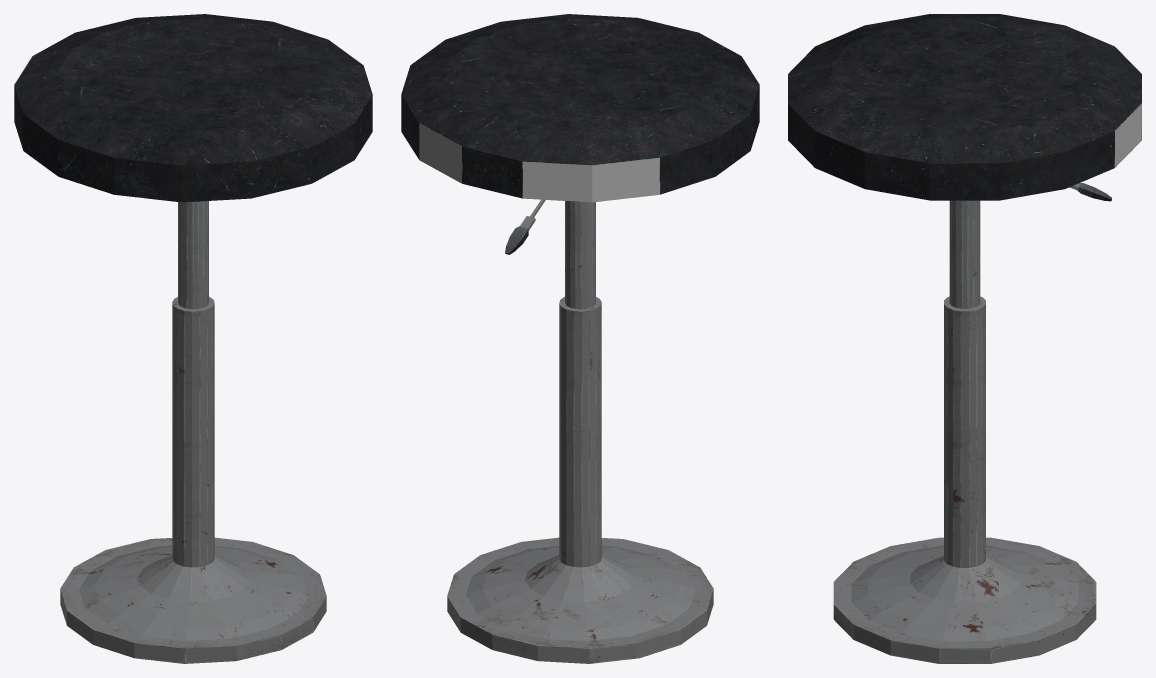
Rendered from Kursi Loket.fbx.
3 renders of one model, left to right at view 1: azimuth 30°, elevation 25°; view 2: azimuth 150°, elevation 25°; view 3: azimuth 270°, elevation 25°, orthographic.
Visible parts, largest first — view 1: Chair; view 2: Chair; view 3: Chair.
Part boxes in pixels (x1,y1,x2,y2): Chair: (14, 14, 372, 663); Chair: (401, 14, 759, 663); Chair: (788, 14, 1141, 663).
Bounding box in the file's own units: 0.3648 × 0.3648 × 0.608.
1 material, 1 textured.
